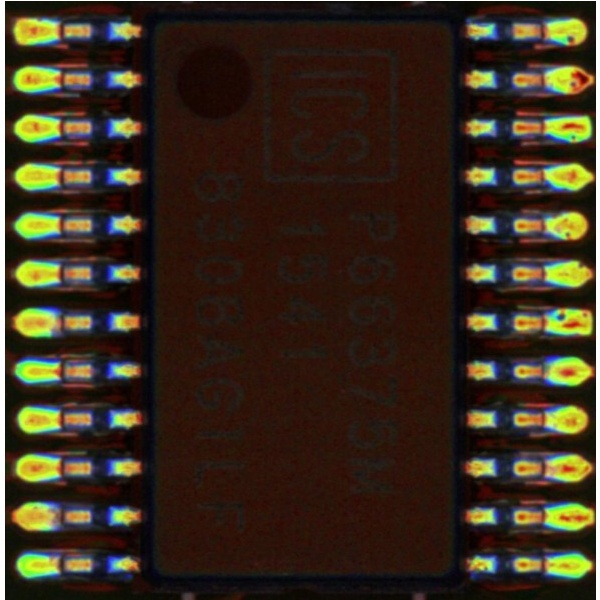Bad_podu: (42, 264, 72, 279), (526, 462, 561, 474), (41, 461, 71, 474), (40, 557, 71, 569), (44, 168, 72, 181), (44, 71, 72, 84), (40, 365, 72, 376), (525, 559, 557, 569)
